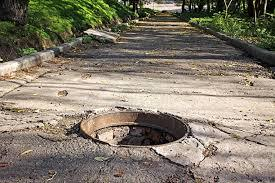open_manhole: (82, 107, 186, 148)
